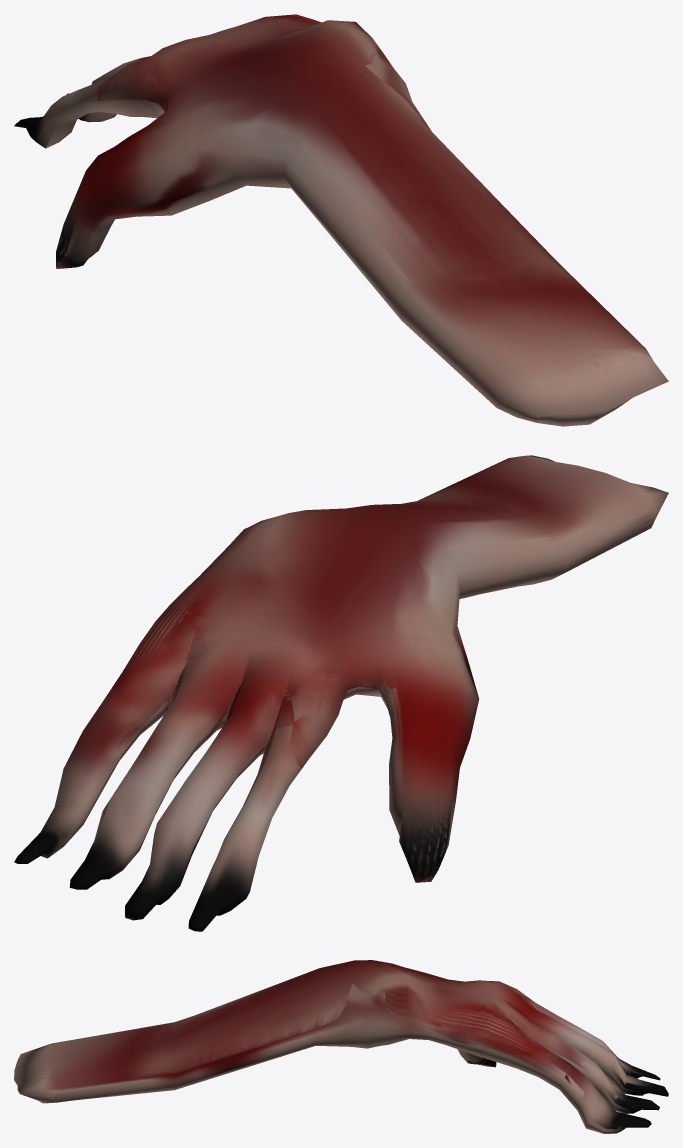
File: käsi.fbx
3 views of the same model, one above another, from view 1: azimuth 30°, elevation 25°; view 2: azimuth 150°, elevation 25°; view 3: azimuth 270°, elevation 25° (orthographic). The views are drawn at different scales.
Parts seen in each view (by area): view 1: Plane; view 2: Plane; view 3: Plane.
Boxes of the visible parts, bbox=[...] form: Plane: bbox=[14, 14, 668, 426]; Plane: bbox=[14, 455, 668, 931]; Plane: bbox=[14, 960, 668, 1133].
Size of the model in its own units: 0.7578 by 0.6146 by 2.28.
1 material, 1 textured.
